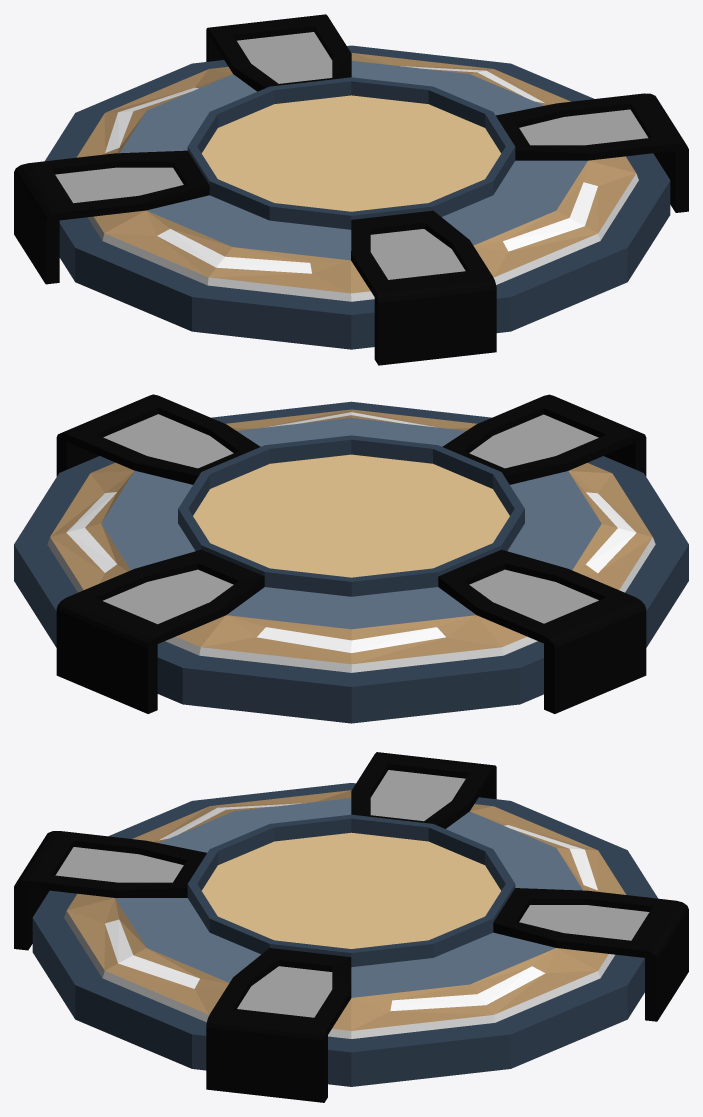
File: Launch Pad 1.dae
3 views of the same model, one above another, from view 1: azimuth 30°, elevation 25°; view 2: azimuth 150°, elevation 25°; view 3: azimuth 270°, elevation 25° (orthographic). The views are drawn at different scales.
Parts seen in each view (by area): view 1: Cylinder; view 2: Cylinder; view 3: Cylinder.
Part boxes in pixels (box(x1,y1,x2,y2)): Cylinder: box(14, 14, 688, 365); Cylinder: box(14, 394, 688, 723); Cylinder: box(14, 752, 688, 1102).
Size of the model in its own units: 12.8 by 12.8 by 1.6.
